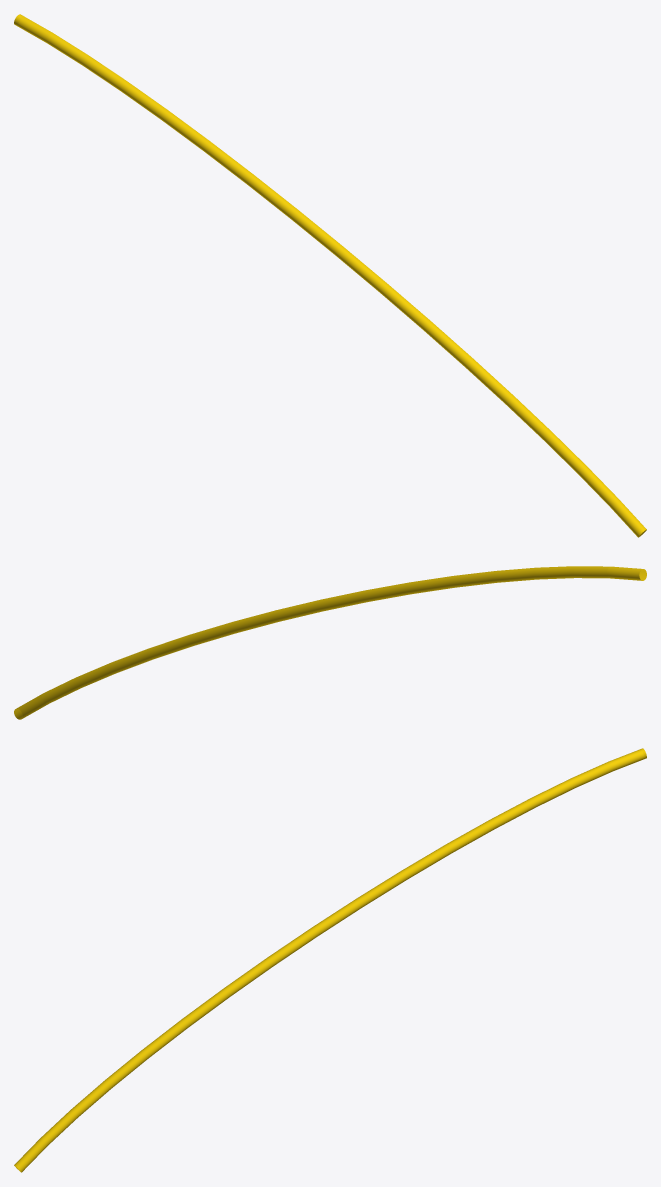
The model's file is Event_421127236_track_16.fbx.
The picture shows the model from 3 angles, top to bottom: view 1: azimuth 30°, elevation 25°; view 2: azimuth 210°, elevation 25°; view 3: azimuth 270°, elevation 25°; orthographic projection. The views are drawn at different scales.
Visible parts, largest first — view 1: Model; view 2: Model; view 3: Model.
Part boxes in pixels (box(x1,y1,x2,y2)): Model: box(14, 14, 646, 537); Model: box(14, 566, 646, 719); Model: box(14, 748, 646, 1172).
Size of the model in its own units: 1.1 by 1.24 by 2.34.
